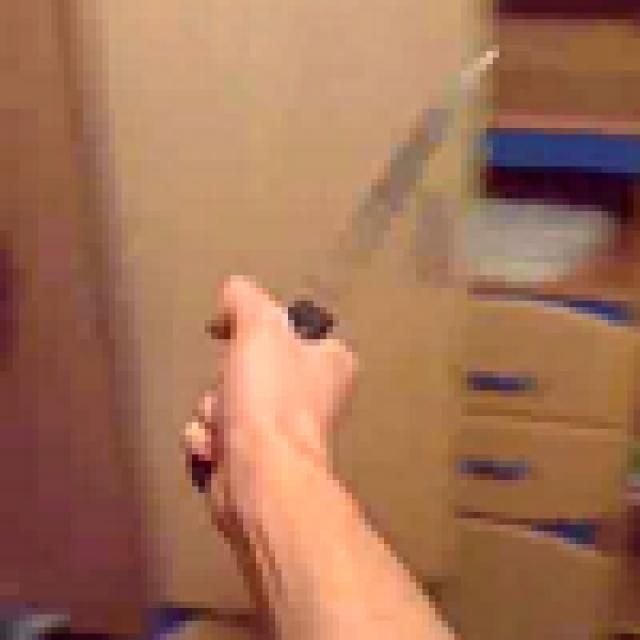Knife: (186, 26, 524, 487)
